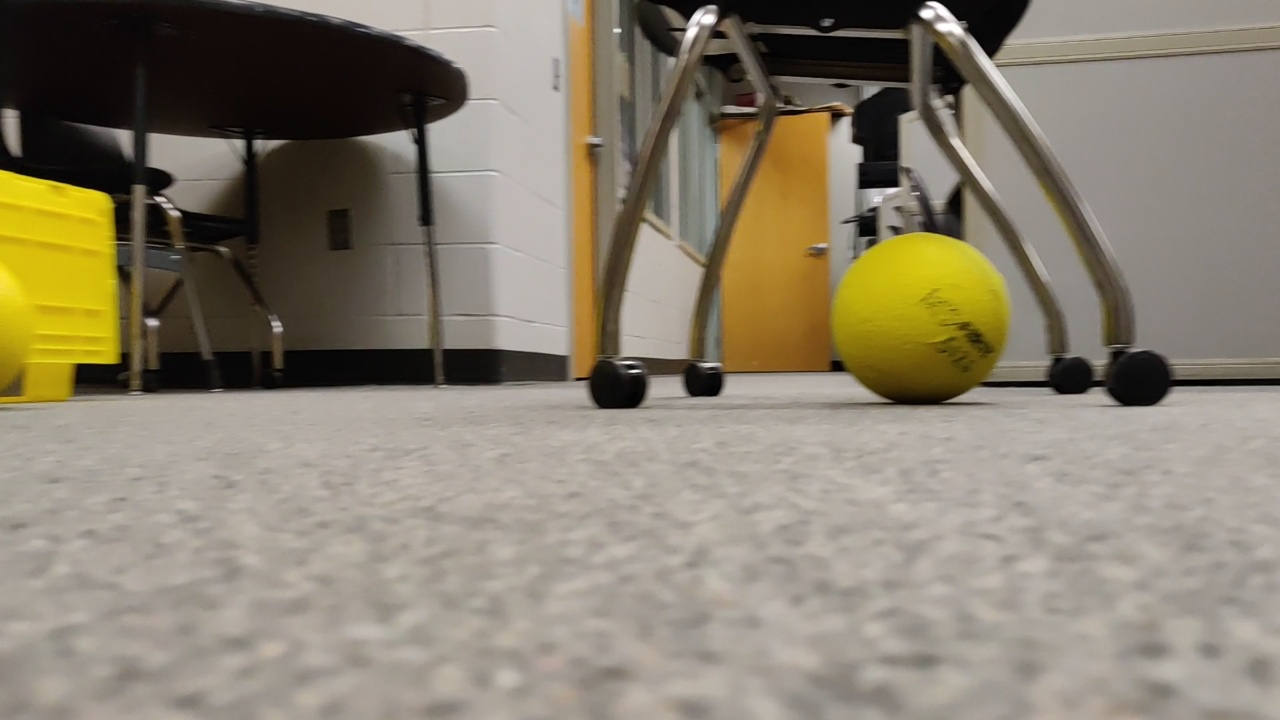Ball: (832, 229, 1017, 397)
